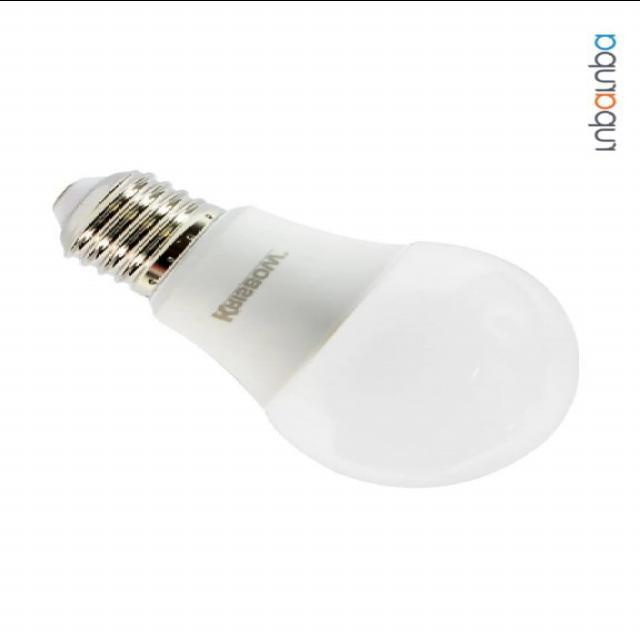light_bulb: (41, 152, 592, 498)
